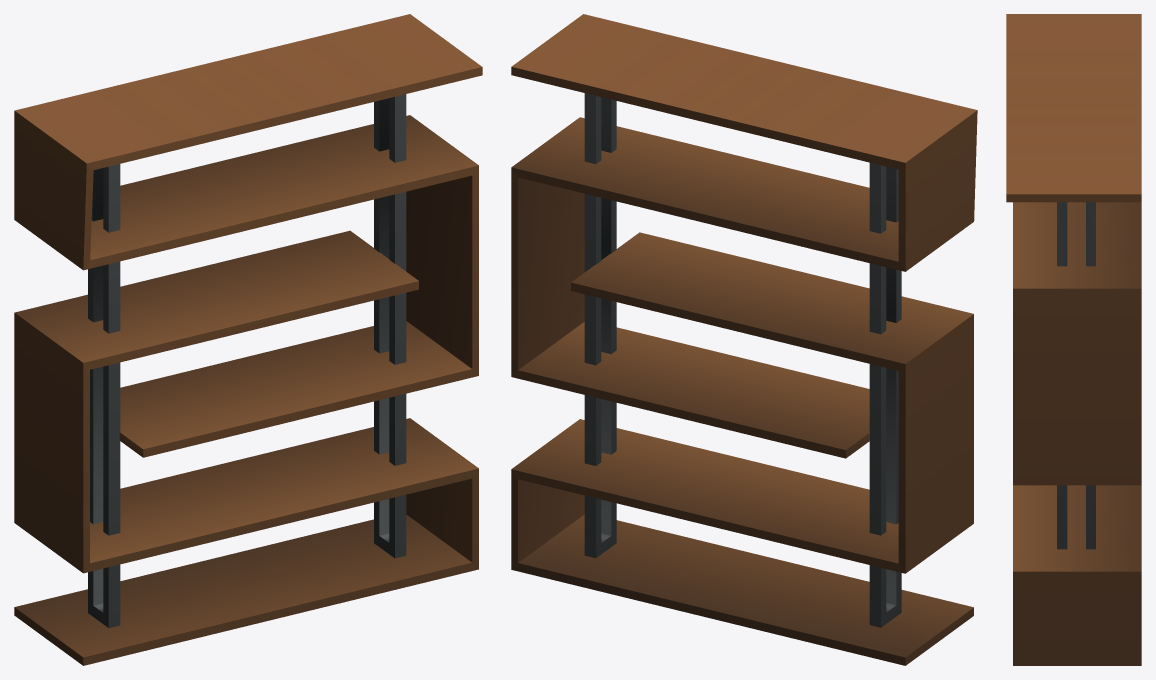
Rendered from TSP_Shelves_02A.fbx.
3 views of the same model, side by side, from view 1: azimuth 30°, elevation 25°; view 2: azimuth 150°, elevation 25°; view 3: azimuth 270°, elevation 25° (orthographic). The views are drawn at different scales.
Visible parts, largest first — view 1: TSP_Shelves_02A; view 2: TSP_Shelves_02A; view 3: TSP_Shelves_02A.
Part boxes in pixels (x1,y1,x2,y2): TSP_Shelves_02A: [14, 14, 482, 665]; TSP_Shelves_02A: [511, 14, 977, 665]; TSP_Shelves_02A: [1006, 14, 1141, 665].
Size of the model in its own units: 1.64 by 2 by 0.5194.
